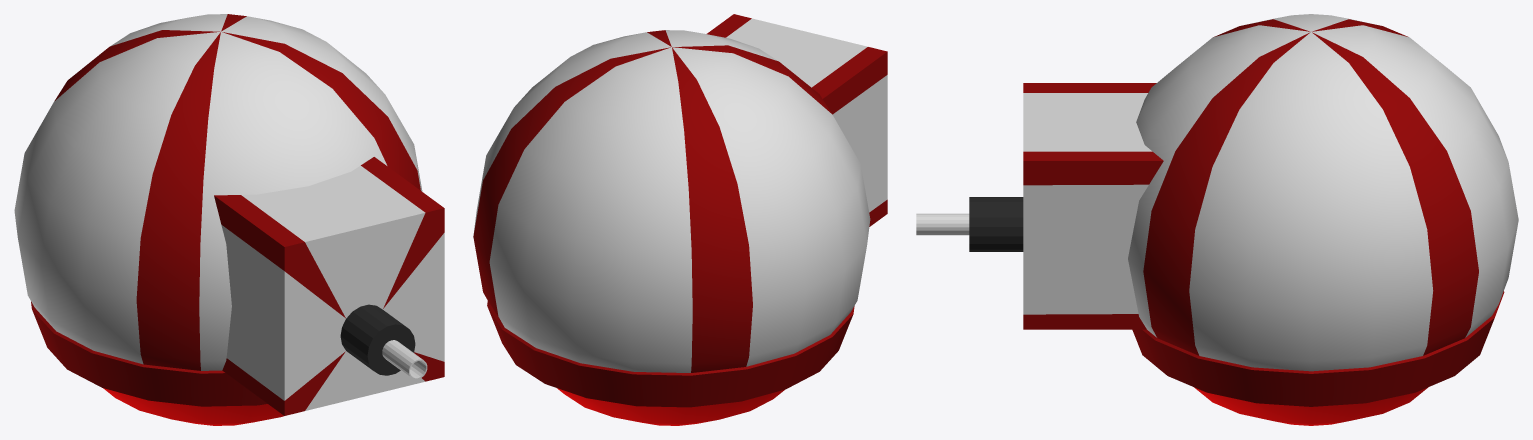
File: BOSSMini.FBX
3 views of the same model, side by side, from view 1: azimuth 30°, elevation 25°; view 2: azimuth 150°, elevation 25°; view 3: azimuth 270°, elevation 25° (orthographic). The views are drawn at different scales.
Visible parts, largest first — view 1: Sphere001, Torreta; view 2: Sphere001, Torreta; view 3: Sphere001, Torreta.
Boxes of the visible parts, x1=… form: Sphere001: x1=14, y1=14, x2=422, y2=425; Torreta: x1=214, y1=157, x2=444, y2=415; Sphere001: x1=473, y1=30, x2=870, y2=425; Torreta: x1=707, y1=14, x2=887, y2=226; Sphere001: x1=1128, y1=14, x2=1518, y2=425; Torreta: x1=916, y1=83, x2=1163, y2=329.
Bounding box in the file's own units: 0.2248 × 0.2248 × 0.3264.
